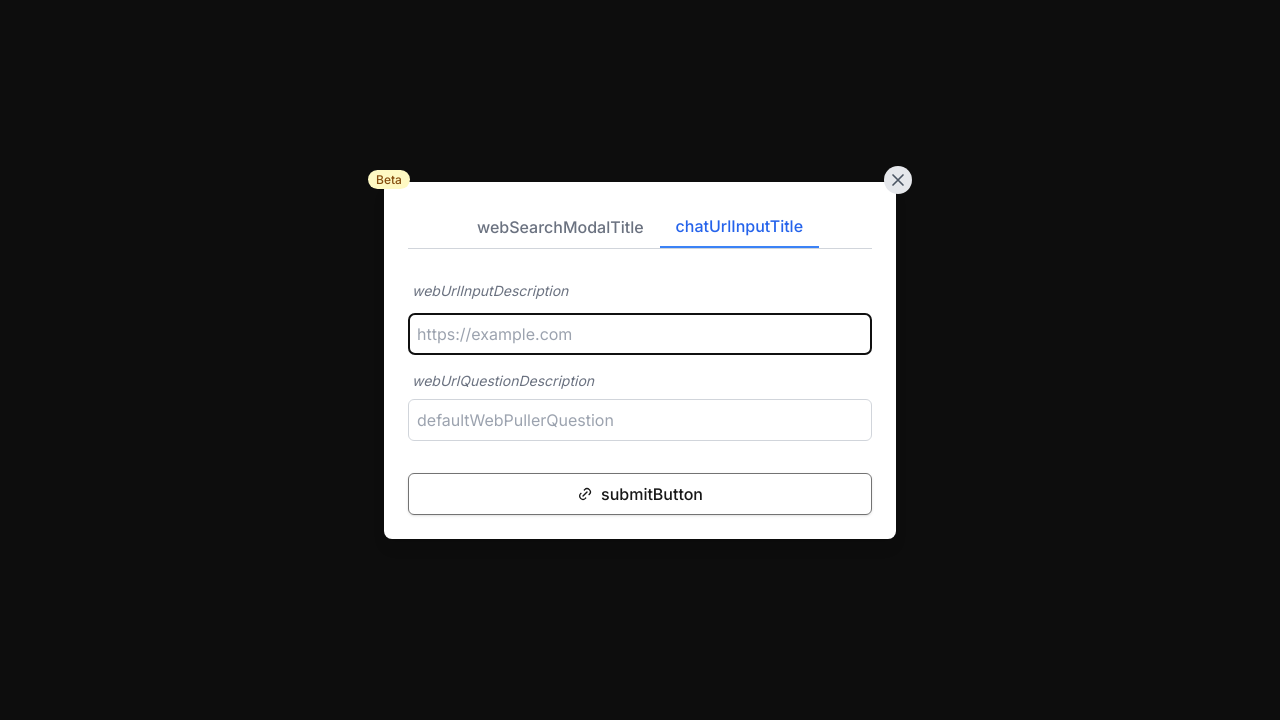
Scenario: ChatInputSearch Component › URL Mode › should display API error message on failed URL fetch (server error in JSON)
Type "http://api-error-url.com" into the field with placeholder "https://example.com". click: {"x": 640, "y": 334}
box: x1=408 y1=312 x2=872 y2=354
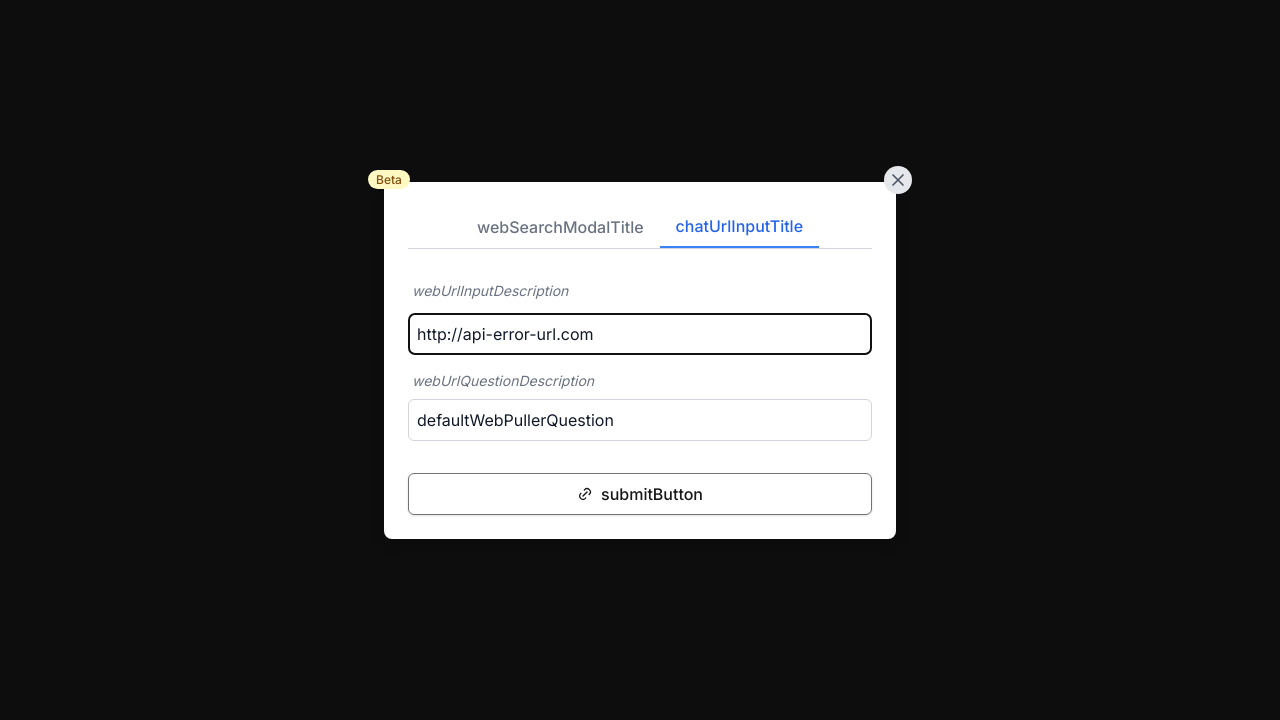
Click the button "submitButton". click: {"x": 640, "y": 494}
box: x1=408 y1=472 x2=872 y2=514
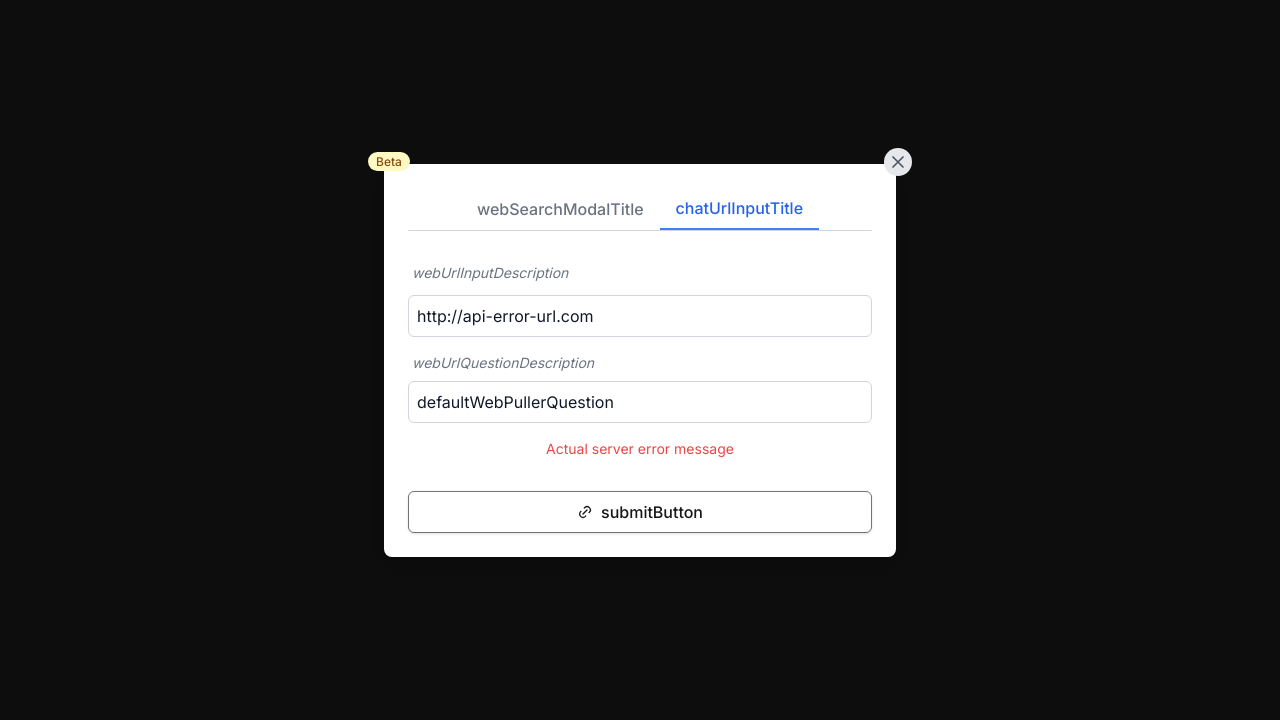
Expected: the text "Actual server error message" is shown, x1=546 y1=440 x2=734 y2=456
